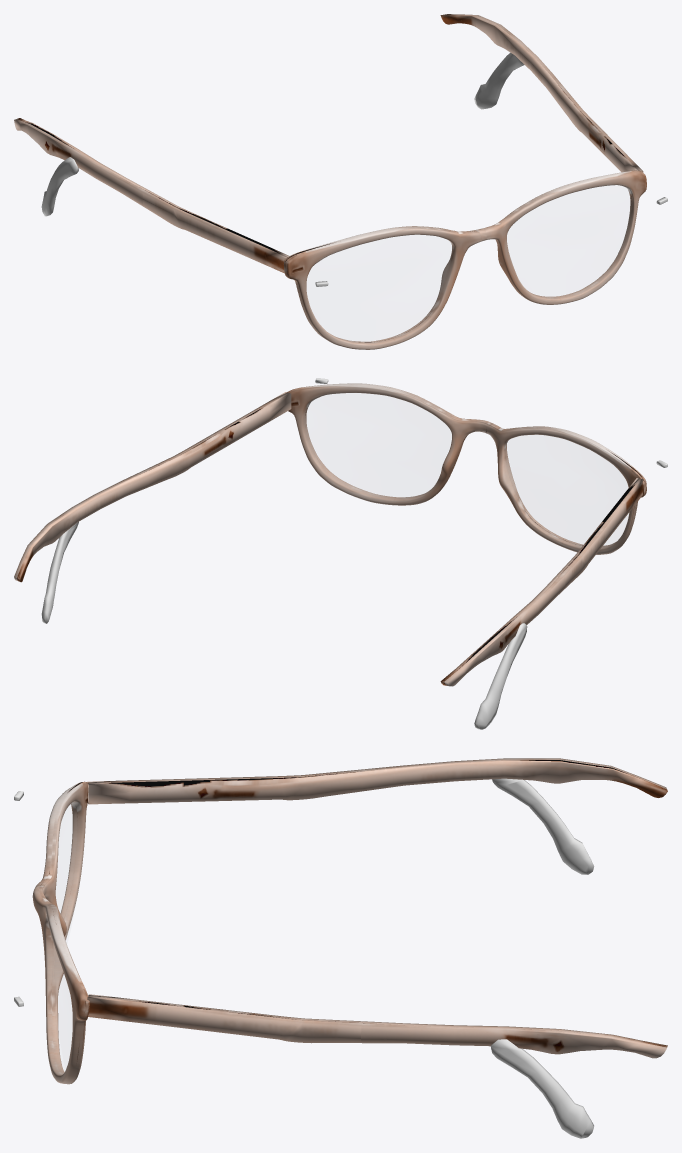
The model's file is kacamata2.gltf.
The picture shows the model from 3 angles, top to bottom: view 1: azimuth 30°, elevation 25°; view 2: azimuth 150°, elevation 25°; view 3: azimuth 270°, elevation 25°; orthographic projection. The views are drawn at different scales.
Parts seen in each view (by area): view 1: Cube, Cube.001, Cube.002; view 2: Cube.001, Cube, Cube.002; view 3: Cube.001, Cube, Cube.002.
Part boxes in pixels (bbox=[...]): Cube: bbox=[283, 170, 646, 349]; Cube.001: bbox=[14, 14, 643, 273]; Cube.002: bbox=[41, 52, 524, 216]; Cube.001: bbox=[14, 392, 643, 686]; Cube: bbox=[287, 383, 646, 554]; Cube.002: bbox=[41, 522, 527, 729]; Cube.001: bbox=[87, 758, 667, 1058]; Cube: bbox=[32, 781, 89, 1084]; Cube.002: bbox=[490, 778, 594, 1138].
Size of the model in its own units: 3.55 by 0.8677 by 3.57.
4 materials, 2 textured.
